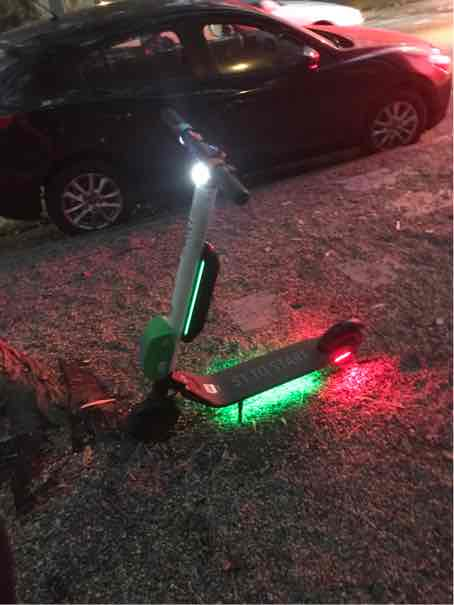scooter: (126, 105, 376, 460)
